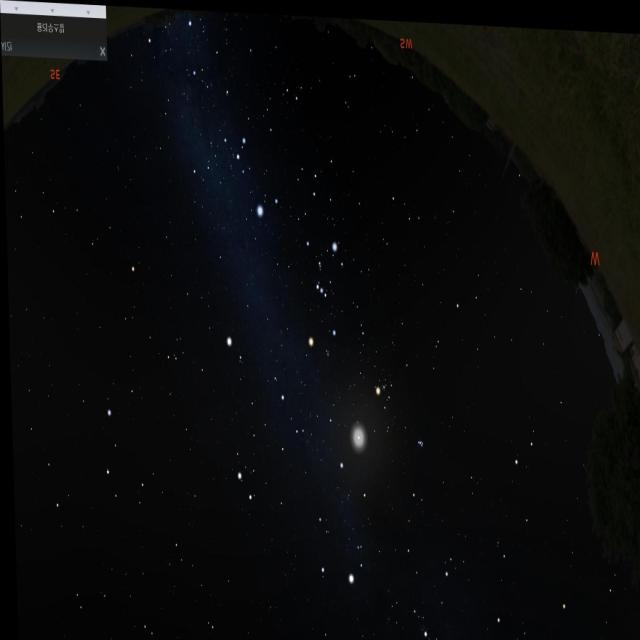canis_major: (227, 122, 282, 225)
canis_minor: (223, 324, 246, 360)
gemini: (229, 379, 304, 504)
moon: (346, 414, 366, 450)
orion: (298, 226, 347, 356)
pleiades: (412, 425, 425, 450)
taurus: (371, 352, 431, 464)
